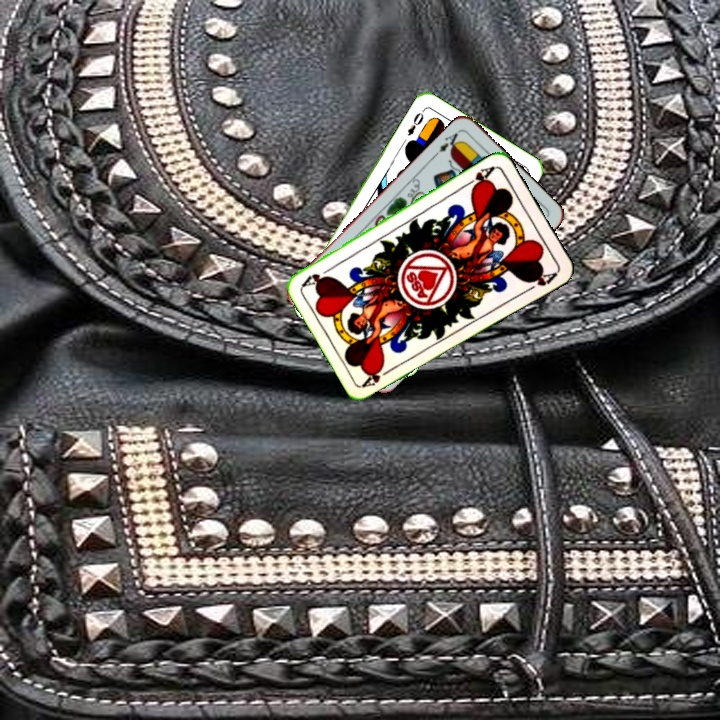EA: (435, 126, 464, 156)
EO: (403, 106, 427, 138)
HA: (460, 162, 497, 192), (359, 363, 397, 390)
